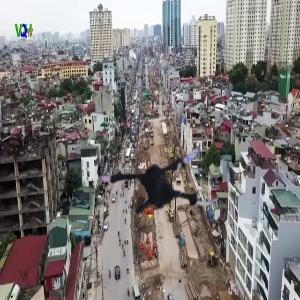drone: (102, 115, 228, 241)
